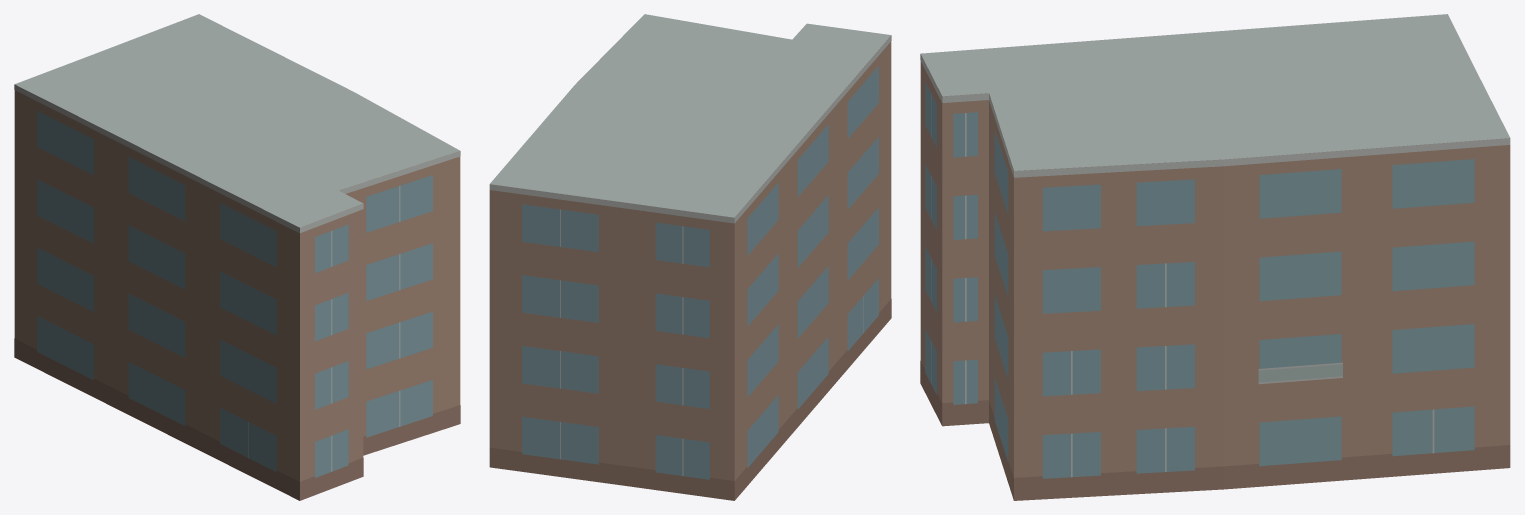
The model's file is survey-upis-32980454.glb.
3 renders of one model, left to right at view 1: azimuth 30°, elevation 25°; view 2: azimuth 150°, elevation 25°; view 3: azimuth 270°, elevation 25°, orthographic. The views are drawn at different scales.
Parts seen in each view (by area): view 1: survey-upis-32980454.tmp; view 2: survey-upis-32980454.tmp; view 3: survey-upis-32980454.tmp.
Part boxes in pixels (x1=…): survey-upis-32980454.tmp: x1=14, y1=14, x2=460, y2=500; survey-upis-32980454.tmp: x1=489, y1=14, x2=891, y2=500; survey-upis-32980454.tmp: x1=920, y1=14, x2=1510, y2=500.
Size of the model in its own units: 12.1 by 11.85 by 19.21.
